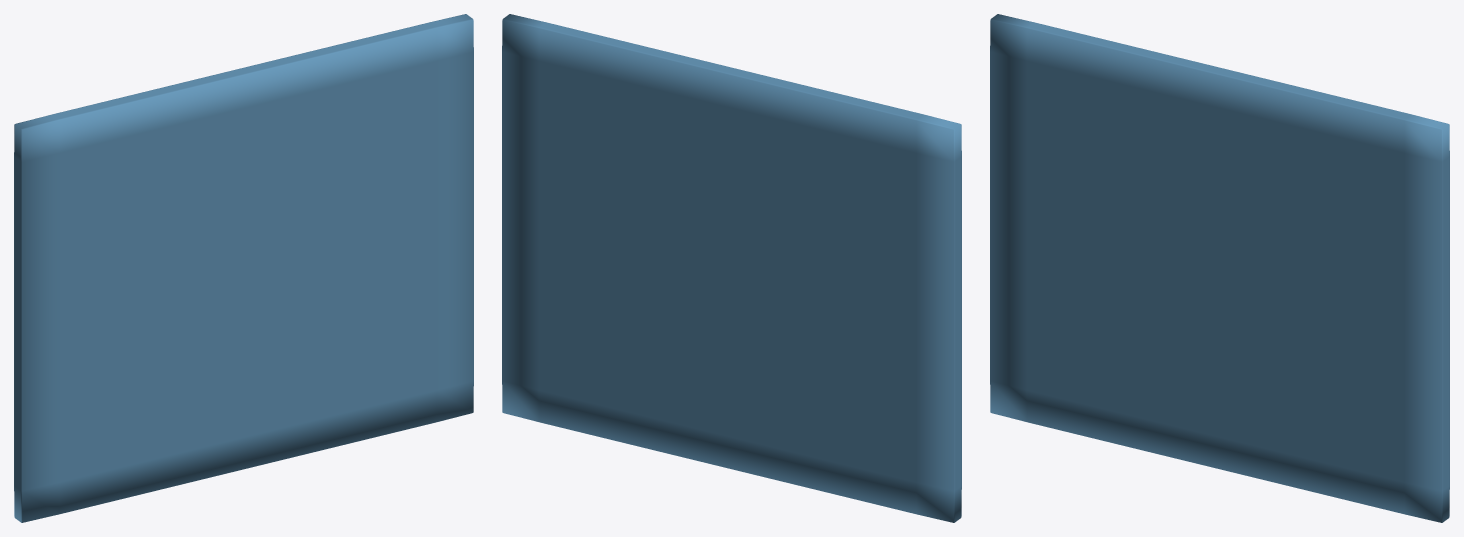
The model's file is StrandWall.gltf.
3 renders of one model, left to right at view 1: azimuth 30°, elevation 25°; view 2: azimuth 150°, elevation 25°; view 3: azimuth 330°, elevation 25°, orthographic.
Visible parts, largest first — view 1: Reference objects; view 2: Reference objects; view 3: Reference objects.
Boxes of the visible parts, bbox=[...] form: Reference objects: bbox=[14, 14, 473, 522]; Reference objects: bbox=[502, 14, 961, 522]; Reference objects: bbox=[990, 14, 1449, 522].
Size of the model in its own units: 2.4 by 2 by 0.08.
